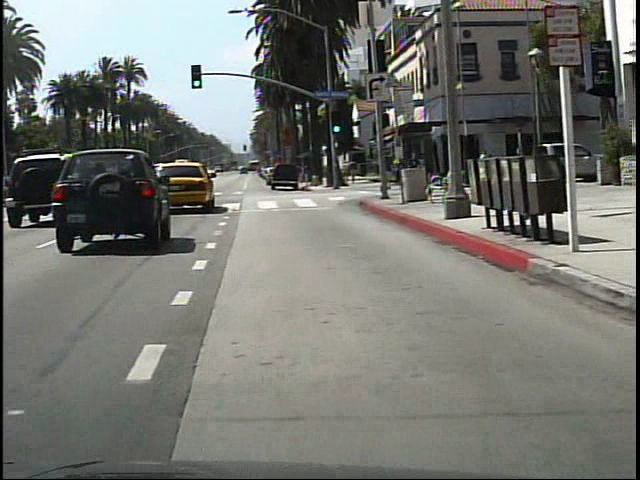person: (475, 147, 494, 191), (384, 150, 398, 194)
